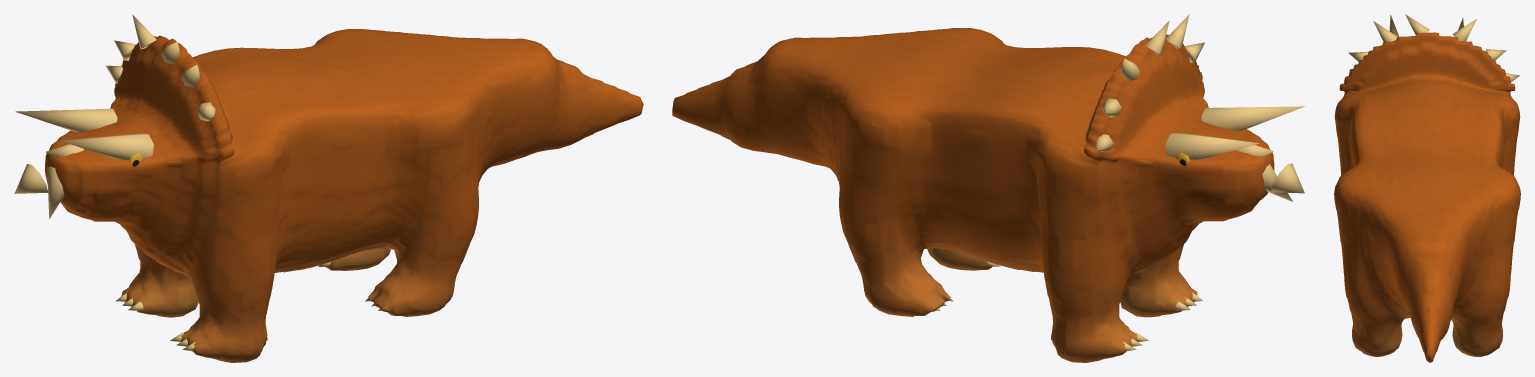
Rendered from triceratops-reviewed-candidate.glb.
3 views of the same model, side by side, from view 1: azimuth 30°, elevation 25°; view 2: azimuth 150°, elevation 25°; view 3: azimuth 270°, elevation 25° (orthographic). The views are drawn at different scales.
Parts seen in each view (by area): view 1: unified-body-shell, brow-horn-0, brow-horn-1, beak, frill-spike-6; view 2: unified-body-shell, brow-horn-0, brow-horn-1, beak; view 3: unified-body-shell, frill-spike-3, frill-spike-1, frill-spike-2.
Part boxes in pixels (bbox=[...]): unified-body-shell: bbox=[45, 29, 643, 362]; brow-horn-0: bbox=[60, 133, 153, 160]; brow-horn-1: bbox=[15, 108, 117, 131]; beak: bbox=[14, 164, 47, 193]; frill-spike-6: bbox=[47, 166, 64, 218]; unified-body-shell: bbox=[672, 28, 1274, 362]; brow-horn-0: bbox=[1201, 106, 1304, 130]; brow-horn-1: bbox=[1165, 132, 1259, 159]; beak: bbox=[1271, 163, 1304, 193]; unified-body-shell: bbox=[1334, 32, 1520, 362]; frill-spike-3: bbox=[1453, 19, 1476, 41]; frill-spike-1: bbox=[1373, 21, 1397, 41]; frill-spike-2: bbox=[1405, 14, 1429, 34].
Size of the model in its own units: 8.61 by 4.13 by 2.76.
